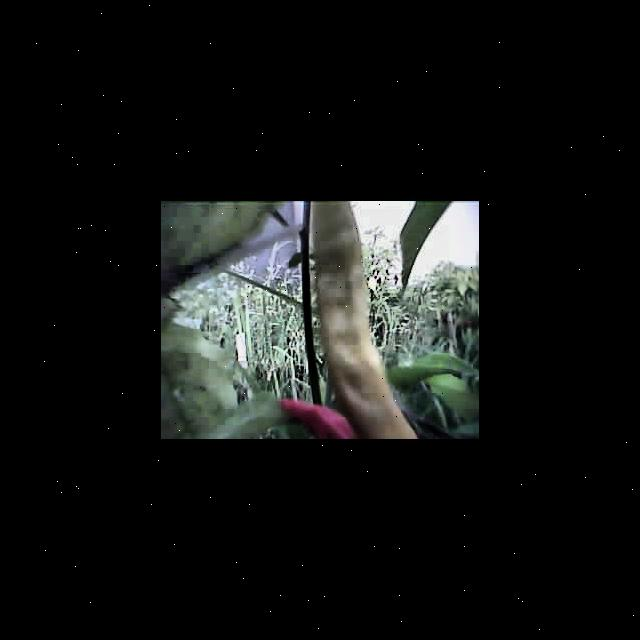Cabai: (281, 395, 349, 439)
